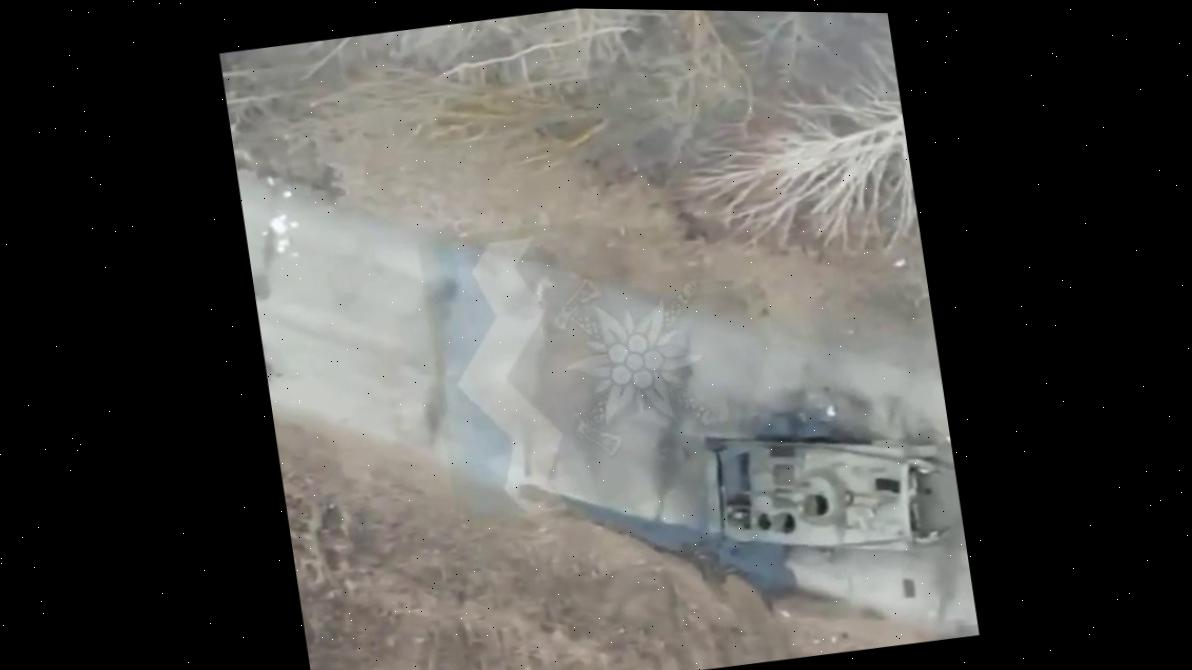tank: (695, 403, 948, 578)
